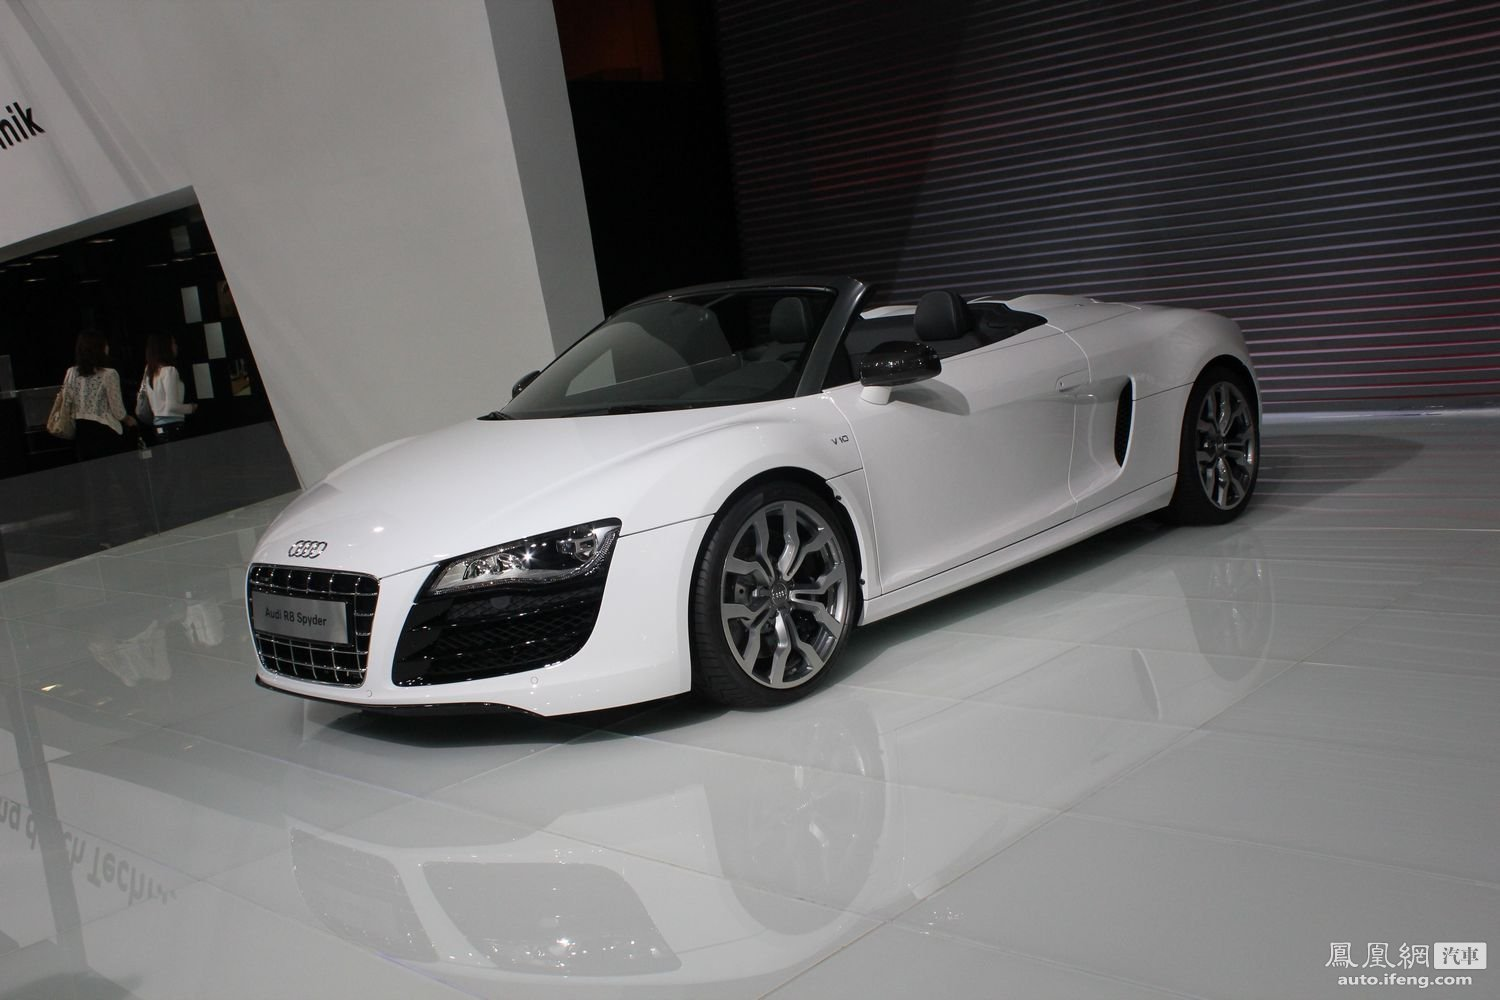back_view: (257, 121, 685, 331)
backlight: (304, 140, 444, 208)
side_glass: (83, 64, 269, 142)
